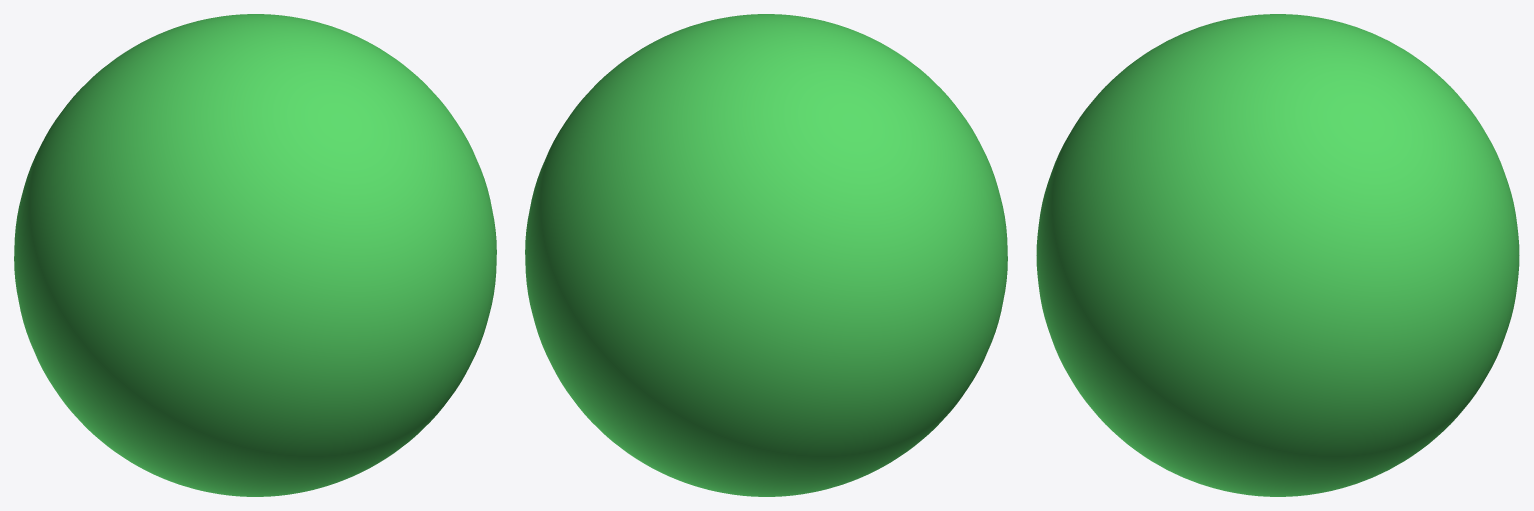
Rendered from gr-halogen.glb.
The picture shows the model from 3 angles, left to right: view 1: azimuth 30°, elevation 25°; view 2: azimuth 150°, elevation 25°; view 3: azimuth 270°, elevation 25°; orthographic projection.
Visible parts, largest first — view 1: I; view 2: I; view 3: I.
Part boxes in pixels (x1,y1,x2,y2): I: (14,14,496,496); I: (525,14,1007,496); I: (1036,14,1519,496).
Size of the model in its own units: 3.38 by 3.38 by 3.38.
